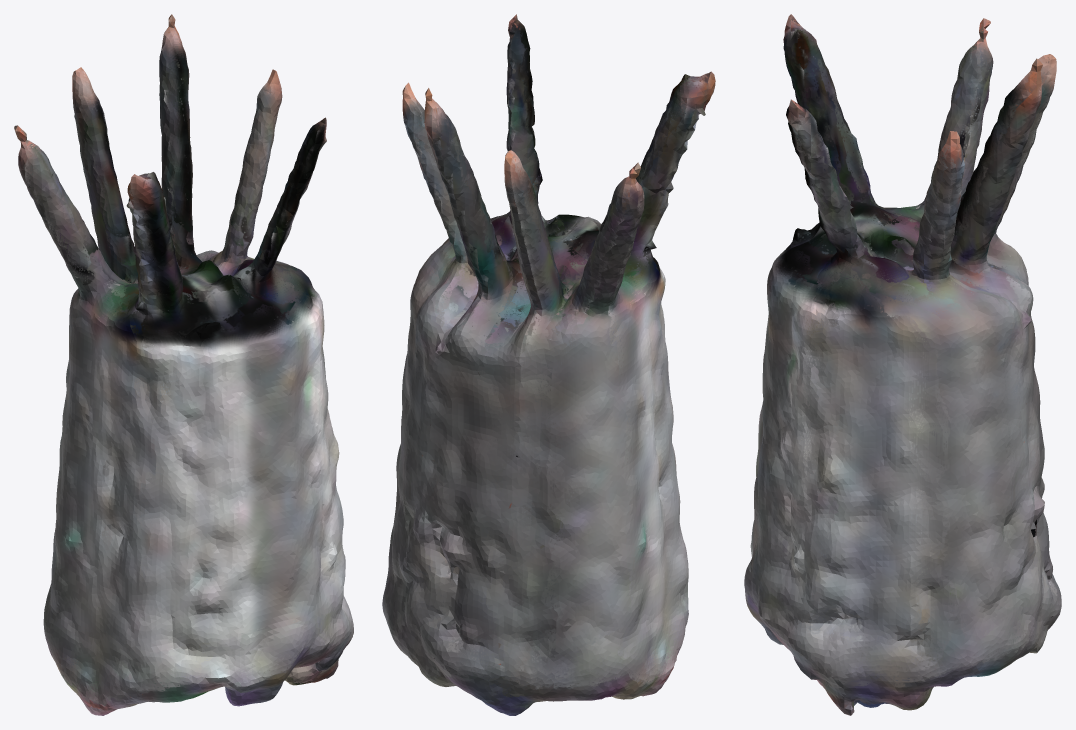
Rendered from Pen_holder_mesh.glb.
3 renders of one model, left to right at view 1: azimuth 30°, elevation 25°; view 2: azimuth 150°, elevation 25°; view 3: azimuth 270°, elevation 25°, orthographic. The views are drawn at different scales.
Size of the model in its own units: 0.8662 by 1.86 by 0.8548.
Materials: 1 (1 with a texture image).
